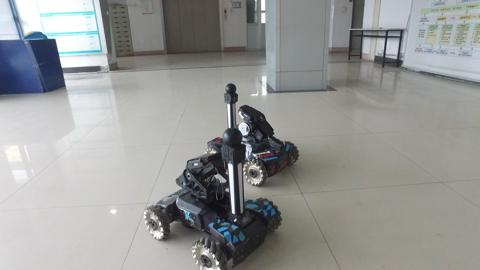chariot: (142, 123, 286, 270), (197, 79, 303, 187)
